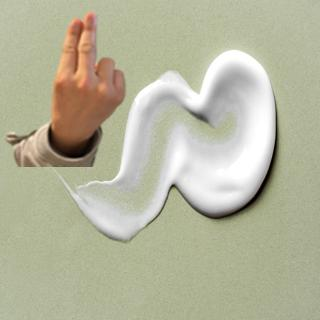DHAVE: (47, 8, 128, 135)
